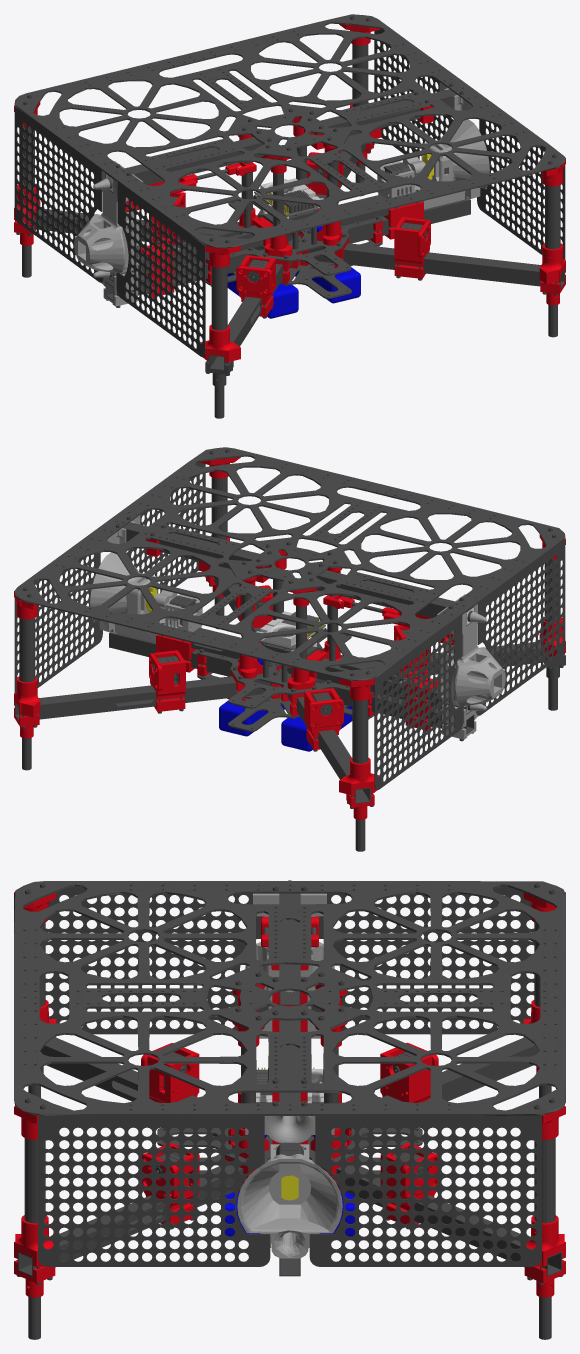
3 renders of one model, top to bottom at view 1: azimuth 30°, elevation 25°; view 2: azimuth 150°, elevation 25°; view 3: azimuth 270°, elevation 25°, orthographic. The views are drawn at different scales.
Parts seen in each view (by area): view 1: module_ver1 - base_module-1 guard_plate-1, module_ver1 - base_module-1 side_guard_male-3, module_ver1 - base_module-1 side_guard_male-1, module_ver1 - base_module-1 side_guard_female-1, module_ver1 - base_module-1 prop_arm_cfrp_pipe-4.001, module_ver1 - base_module-1 male_docking_mech_mark1-1 male_m, module_ver1 - base_module-1 female_docking_mech_mark1-1 fema, module_ver1 - base_module-1 female_docking_mech_mark1-1 fem. (×3), module_ver1 - base_module-1 side_guard_female-3, module_ver1 - base_module-1 base_frame_top-1, module_ver1 - base_module-1 male_docking_mech_mark1-1 male_. (×2), module_ver1 - base_module-1 male_mech_pipe-1 (+16 smaller); view 2: module_ver1 - base_module-1 guard_plate-1, module_ver1 - base_module-1 side_guard_male-1, module_ver1 - base_module-1 side_guard_male-3, module_ver1 - base_module-1 side_guard_female-3, module_ver1 - base_module-1 prop_arm_cfrp_pipe-1.001, module_ver1 - base_module-1 male_docking_mech_mark1-1 male_m, module_ver1 - base_module-1 female_docking_mech_mark1-1 fema, module_ver1 - base_module-1 female_docking_mech_mark1-1 fem. (×3), module_ver1 - base_module-1 side_guard_female-1, module_ver1 - base_module-1 base_frame_top-1, module_ver1 - base_module-1 male_docking_mech_mark1-1 male_. (×2), module_ver1 - base_module-1 prop_arm_cfrp_pipe-2.001 (+16 smaller); view 3: module_ver1 - base_module-1 guard_plate-1, module_ver1 - base_module-1 side_guard_female-3, module_ver1 - base_module-1 side_guard_female-1, module_ver1 - base_module-1 side_guard_male-1, module_ver1 - base_module-1 side_guard_male-3, module_ver1 - base_module-1 female_docking_mech_mark1-1 fema, module_ver1 - base_module-1 prop_arm_cfrp_pipe-1.001, module_ver1 - base_module-1 prop_arm_cfrp_pipe-4.001, module_ver1 - base_module-1 prop_arm_cfrp_pipe-3.001, module_ver1 - base_module-1 prop_arm_cfrp_pipe-2.001, module_ver1 - base_module-1 base_frame_top-1, module_ver1 - base_module-1 male_docking_mech_mark1-1 male_m (+17 smaller).
Boxes of the visible parts, left/top/right/bottom form: module_ver1 - base_module-1 guard_plate-1: left=14, top=14, right=565, bottom=248; module_ver1 - base_module-1 side_guard_male-3: left=116, top=182, right=205, bottom=357; module_ver1 - base_module-1 side_guard_male-1: left=14, top=106, right=103, bottom=282; module_ver1 - base_module-1 side_guard_female-1: left=477, top=119, right=565, bottom=259; module_ver1 - base_module-1 prop_arm_cfrp_pipe-4.001: left=301, top=243, right=564, bottom=288; module_ver1 - base_module-1 male_docking_mech_mark1-1 male_m: left=74, top=161, right=142, bottom=274; module_ver1 - base_module-1 female_docking_mech_mark1-1 fema: left=421, top=119, right=489, bottom=209; module_ver1 - base_module-1 female_docking_mech_mark1-1 fem. (×3): left=309, top=194, right=470, bottom=243; module_ver1 - base_module-1 side_guard_female-3: left=374, top=29, right=453, bottom=159; module_ver1 - base_module-1 base_frame_top-1: left=206, top=196, right=382, bottom=275; module_ver1 - base_module-1 male_docking_mech_mark1-1 male_. (×2): left=105, top=225, right=263, bottom=301; module_ver1 - base_module-1 male_mech_pipe-1: left=105, top=137, right=263, bottom=192; module_ver1 - base_module-1 guard_plate-1: left=14, top=447, right=565, bottom=681; module_ver1 - base_module-1 side_guard_male-1: left=374, top=615, right=463, bottom=790; module_ver1 - base_module-1 side_guard_male-3: left=476, top=539, right=565, bottom=715; module_ver1 - base_module-1 side_guard_female-3: left=14, top=553, right=102, bottom=692; module_ver1 - base_module-1 prop_arm_cfrp_pipe-1.001: left=15, top=676, right=278, bottom=721; module_ver1 - base_module-1 male_docking_mech_mark1-1 male_m: left=437, top=594, right=505, bottom=707; module_ver1 - base_module-1 female_docking_mech_mark1-1 fema: left=90, top=552, right=158, bottom=642; module_ver1 - base_module-1 female_docking_mech_mark1-1 fem. (×3): left=109, top=627, right=270, bottom=676; module_ver1 - base_module-1 side_guard_female-1: left=126, top=462, right=205, bottom=592; module_ver1 - base_module-1 base_frame_top-1: left=197, top=629, right=373, bottom=708; module_ver1 - base_module-1 male_docking_mech_mark1-1 male_. (×2): left=316, top=658, right=474, bottom=734; module_ver1 - base_module-1 prop_arm_cfrp_pipe-2.001: left=287, top=694, right=370, bottom=803; module_ver1 - base_module-1 guard_plate-1: left=14, top=881, right=565, bottom=1115; module_ver1 - base_module-1 side_guard_female-3: left=309, top=1115, right=541, bottom=1266; module_ver1 - base_module-1 side_guard_female-1: left=38, top=1115, right=270, bottom=1266; module_ver1 - base_module-1 side_guard_male-1: left=311, top=886, right=534, bottom=1034; module_ver1 - base_module-1 side_guard_male-3: left=45, top=886, right=268, bottom=1034; module_ver1 - base_module-1 female_docking_mech_mark1-1 fema: left=237, top=1158, right=342, bottom=1258; module_ver1 - base_module-1 prop_arm_cfrp_pipe-1.001: left=321, top=1165, right=562, bottom=1276; module_ver1 - base_module-1 prop_arm_cfrp_pipe-4.001: left=17, top=1165, right=258, bottom=1276; module_ver1 - base_module-1 prop_arm_cfrp_pipe-3.001: left=40, top=1037, right=233, bottom=1136; module_ver1 - base_module-1 prop_arm_cfrp_pipe-2.001: left=346, top=1037, right=539, bottom=1136; module_ver1 - base_module-1 base_frame_top-1: left=157, top=1127, right=422, bottom=1167; module_ver1 - base_module-1 male_docking_mech_mark1-1 male_m: left=245, top=893, right=334, bottom=1009.
Bounding box in the file's own units: 0.5601 × 0.5202 × 0.244.
